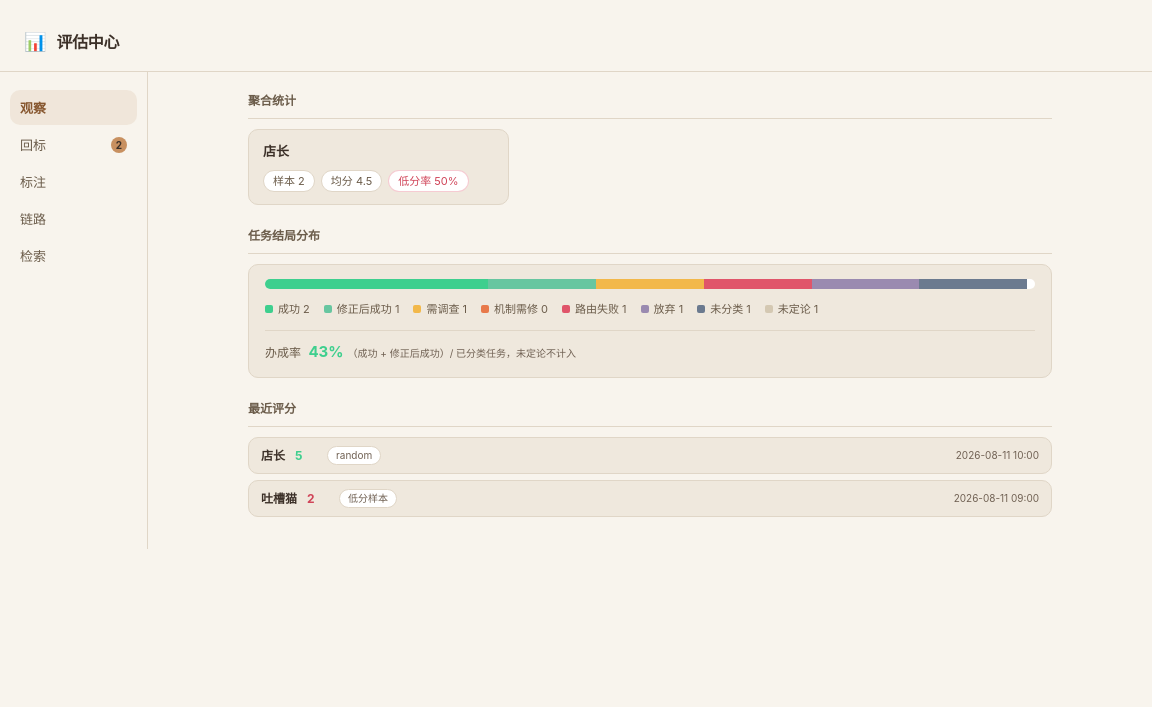
Scenario: EvaluationView 挂载测试（mock useApi） › E1 检索 tab：快照声明 + 两组读数分列（不合成总分）+ 归因分布 + 反对照
What coordinates should you click on to do the following:
click the button "检索"
I would click on:
 (74, 256)
Its box is [10, 238, 137, 273].
(page scrolled)
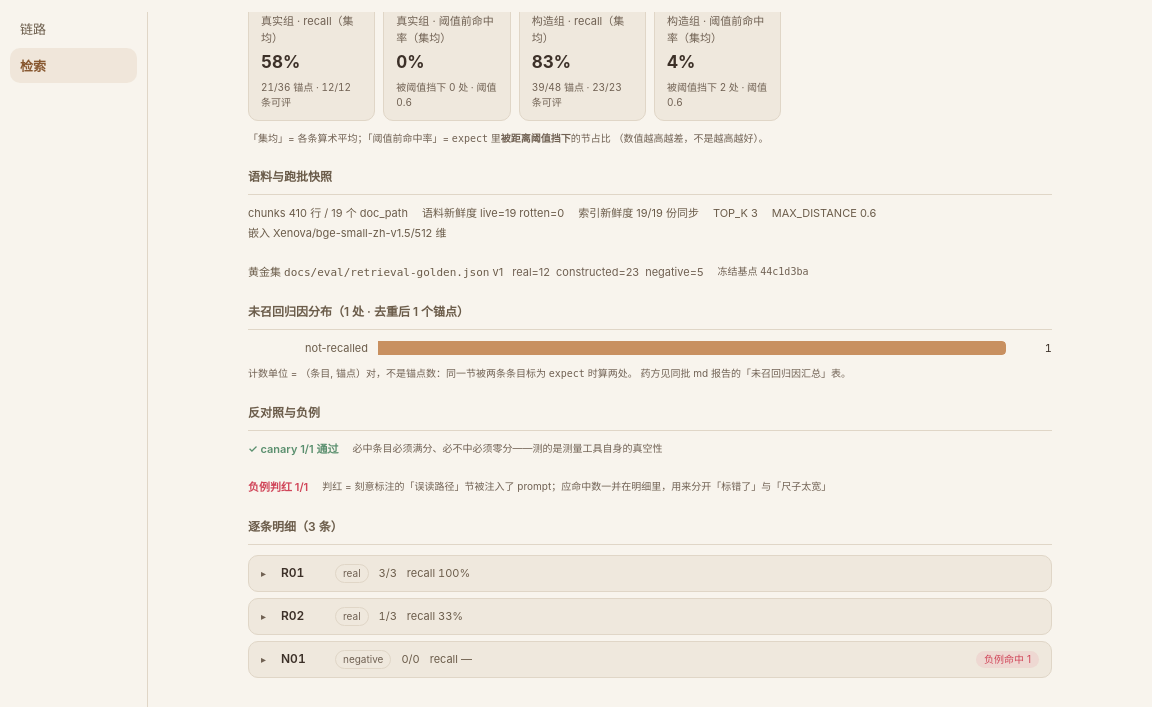
expect the text "快照" is shown: met, box [248, 168, 1052, 195]
expect the text "真实组 · recall（集均）" is shown: met, box [261, 13, 362, 46]
expect the text "构造组 · recall（集均）" is shown: met, box [532, 13, 633, 46]
What coordinates should you click on to do the following:
click the button with class "retrieval-head" showing "▸ R02 real 1/3 recall 33%"
I would click on:
 (352, 616)
Its box is [249, 599, 1051, 634].
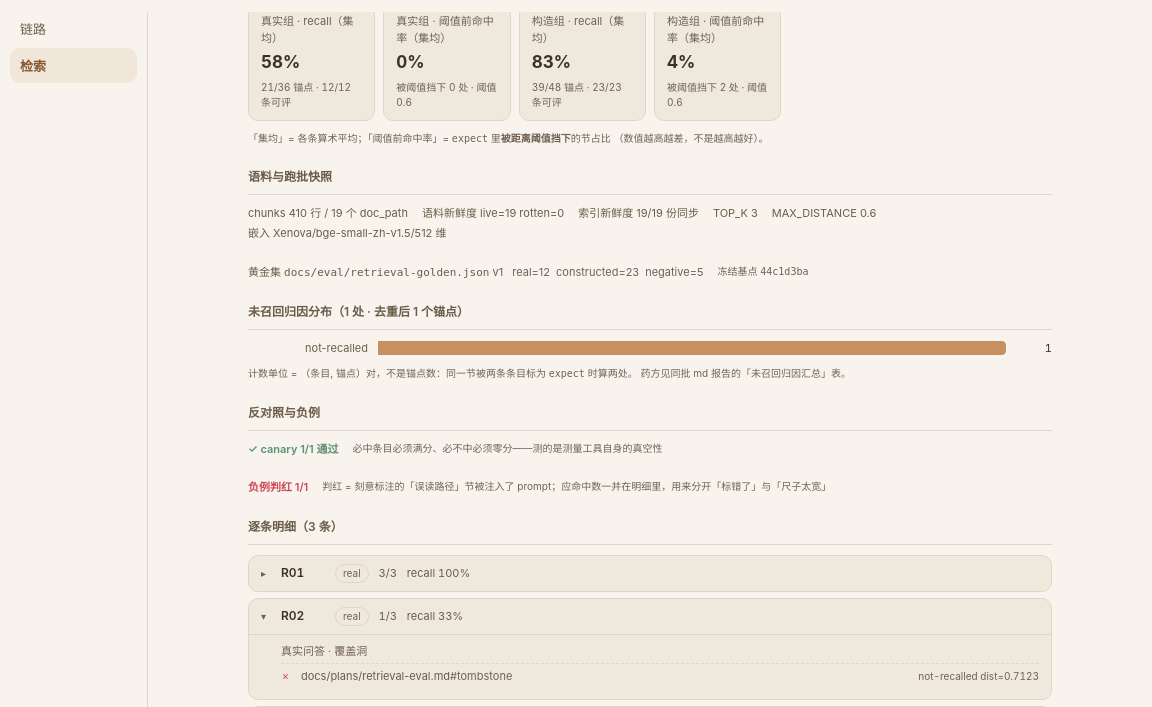
expect the text "docs/plans/retrieval-eval.md" is shown: met, box [301, 669, 450, 683]
expect the text "not-recalled dist=0.7123" is shown: met, box [918, 669, 1039, 684]
